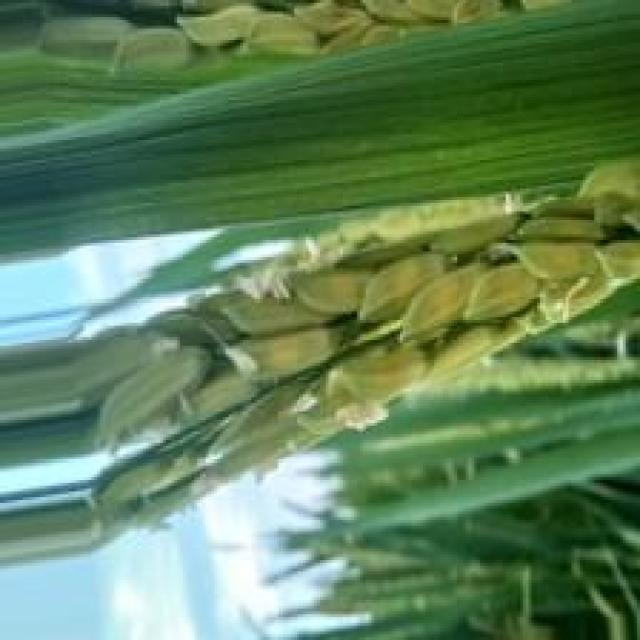HealthyLeaf: (1, 24, 635, 249)
